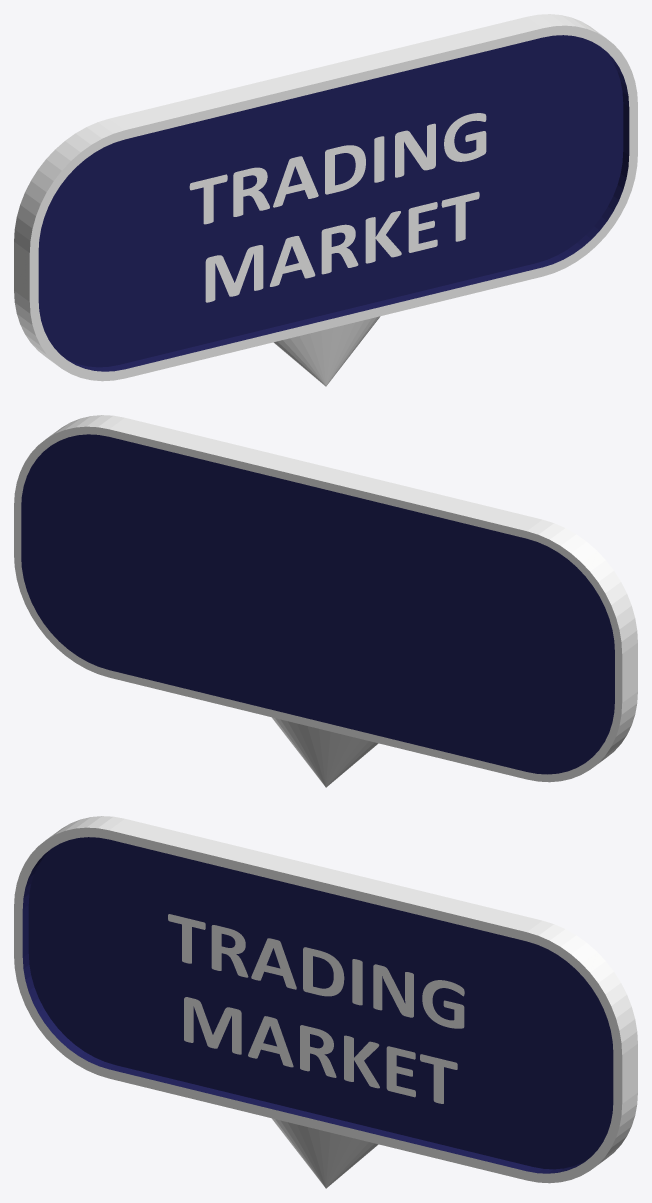
Rendered from TradingMarketHoverd.glb.
3 renders of one model, top to bottom at view 1: azimuth 30°, elevation 25°; view 2: azimuth 150°, elevation 25°; view 3: azimuth 330°, elevation 25°, orthographic.
Visible parts, largest first — view 1: 立方体, 立方体.001, 文本, 立方体.002, 立方体.004; view 2: 立方体, 立方体.003, 立方体.002, 立方体.004; view 3: 立方体, 立方体.001, 文本, 立方体.002, 立方体.004.
Part boxes in pixels (x1,y1,x2,y2): 立方体: [38, 35, 629, 371]; 立方体.001: [29, 25, 637, 381]; 文本: [189, 113, 486, 302]; 立方体.002: [14, 14, 603, 366]; 立方体.004: [273, 316, 380, 386]; 立方体: [21, 434, 614, 774]; 立方体.003: [14, 426, 622, 782]; 立方体.002: [48, 415, 637, 767]; 立方体.004: [271, 717, 378, 787]; 立方体: [22, 837, 613, 1173]; 立方体.001: [14, 827, 622, 1183]; 文本: [168, 914, 464, 1103]; 立方体.002: [48, 816, 637, 1168]; 立方体.004: [271, 1118, 378, 1188].
Size of the model in its own units: 5.13 by 2.52 by 0.2745.
